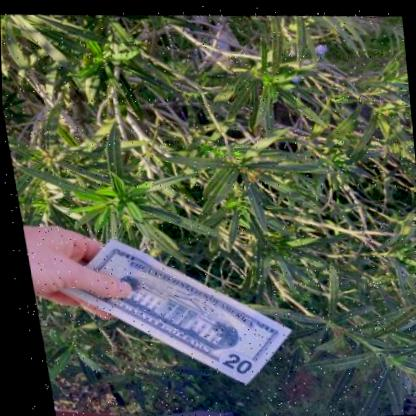twenty-back: (55, 236, 286, 382)
